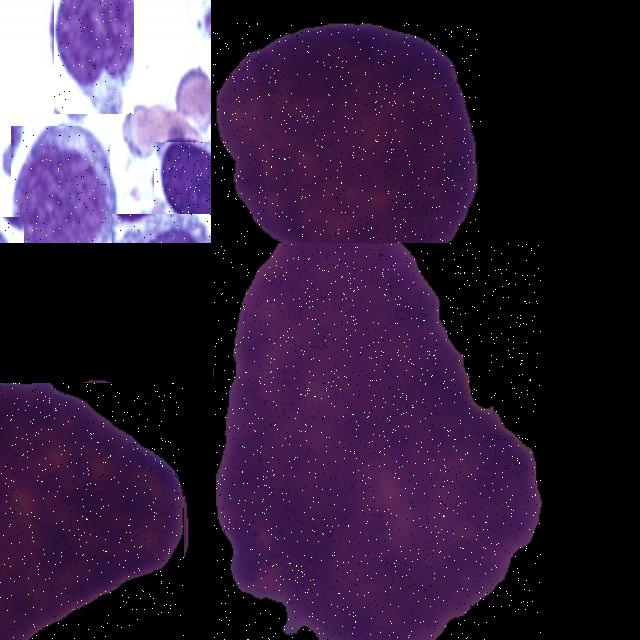ALL Negative Cells: (10, 125, 110, 243)
ALL Positive Cell: (214, 243, 541, 640), (213, 23, 481, 243), (0, 383, 184, 640), (53, 0, 134, 113), (154, 142, 211, 219)
